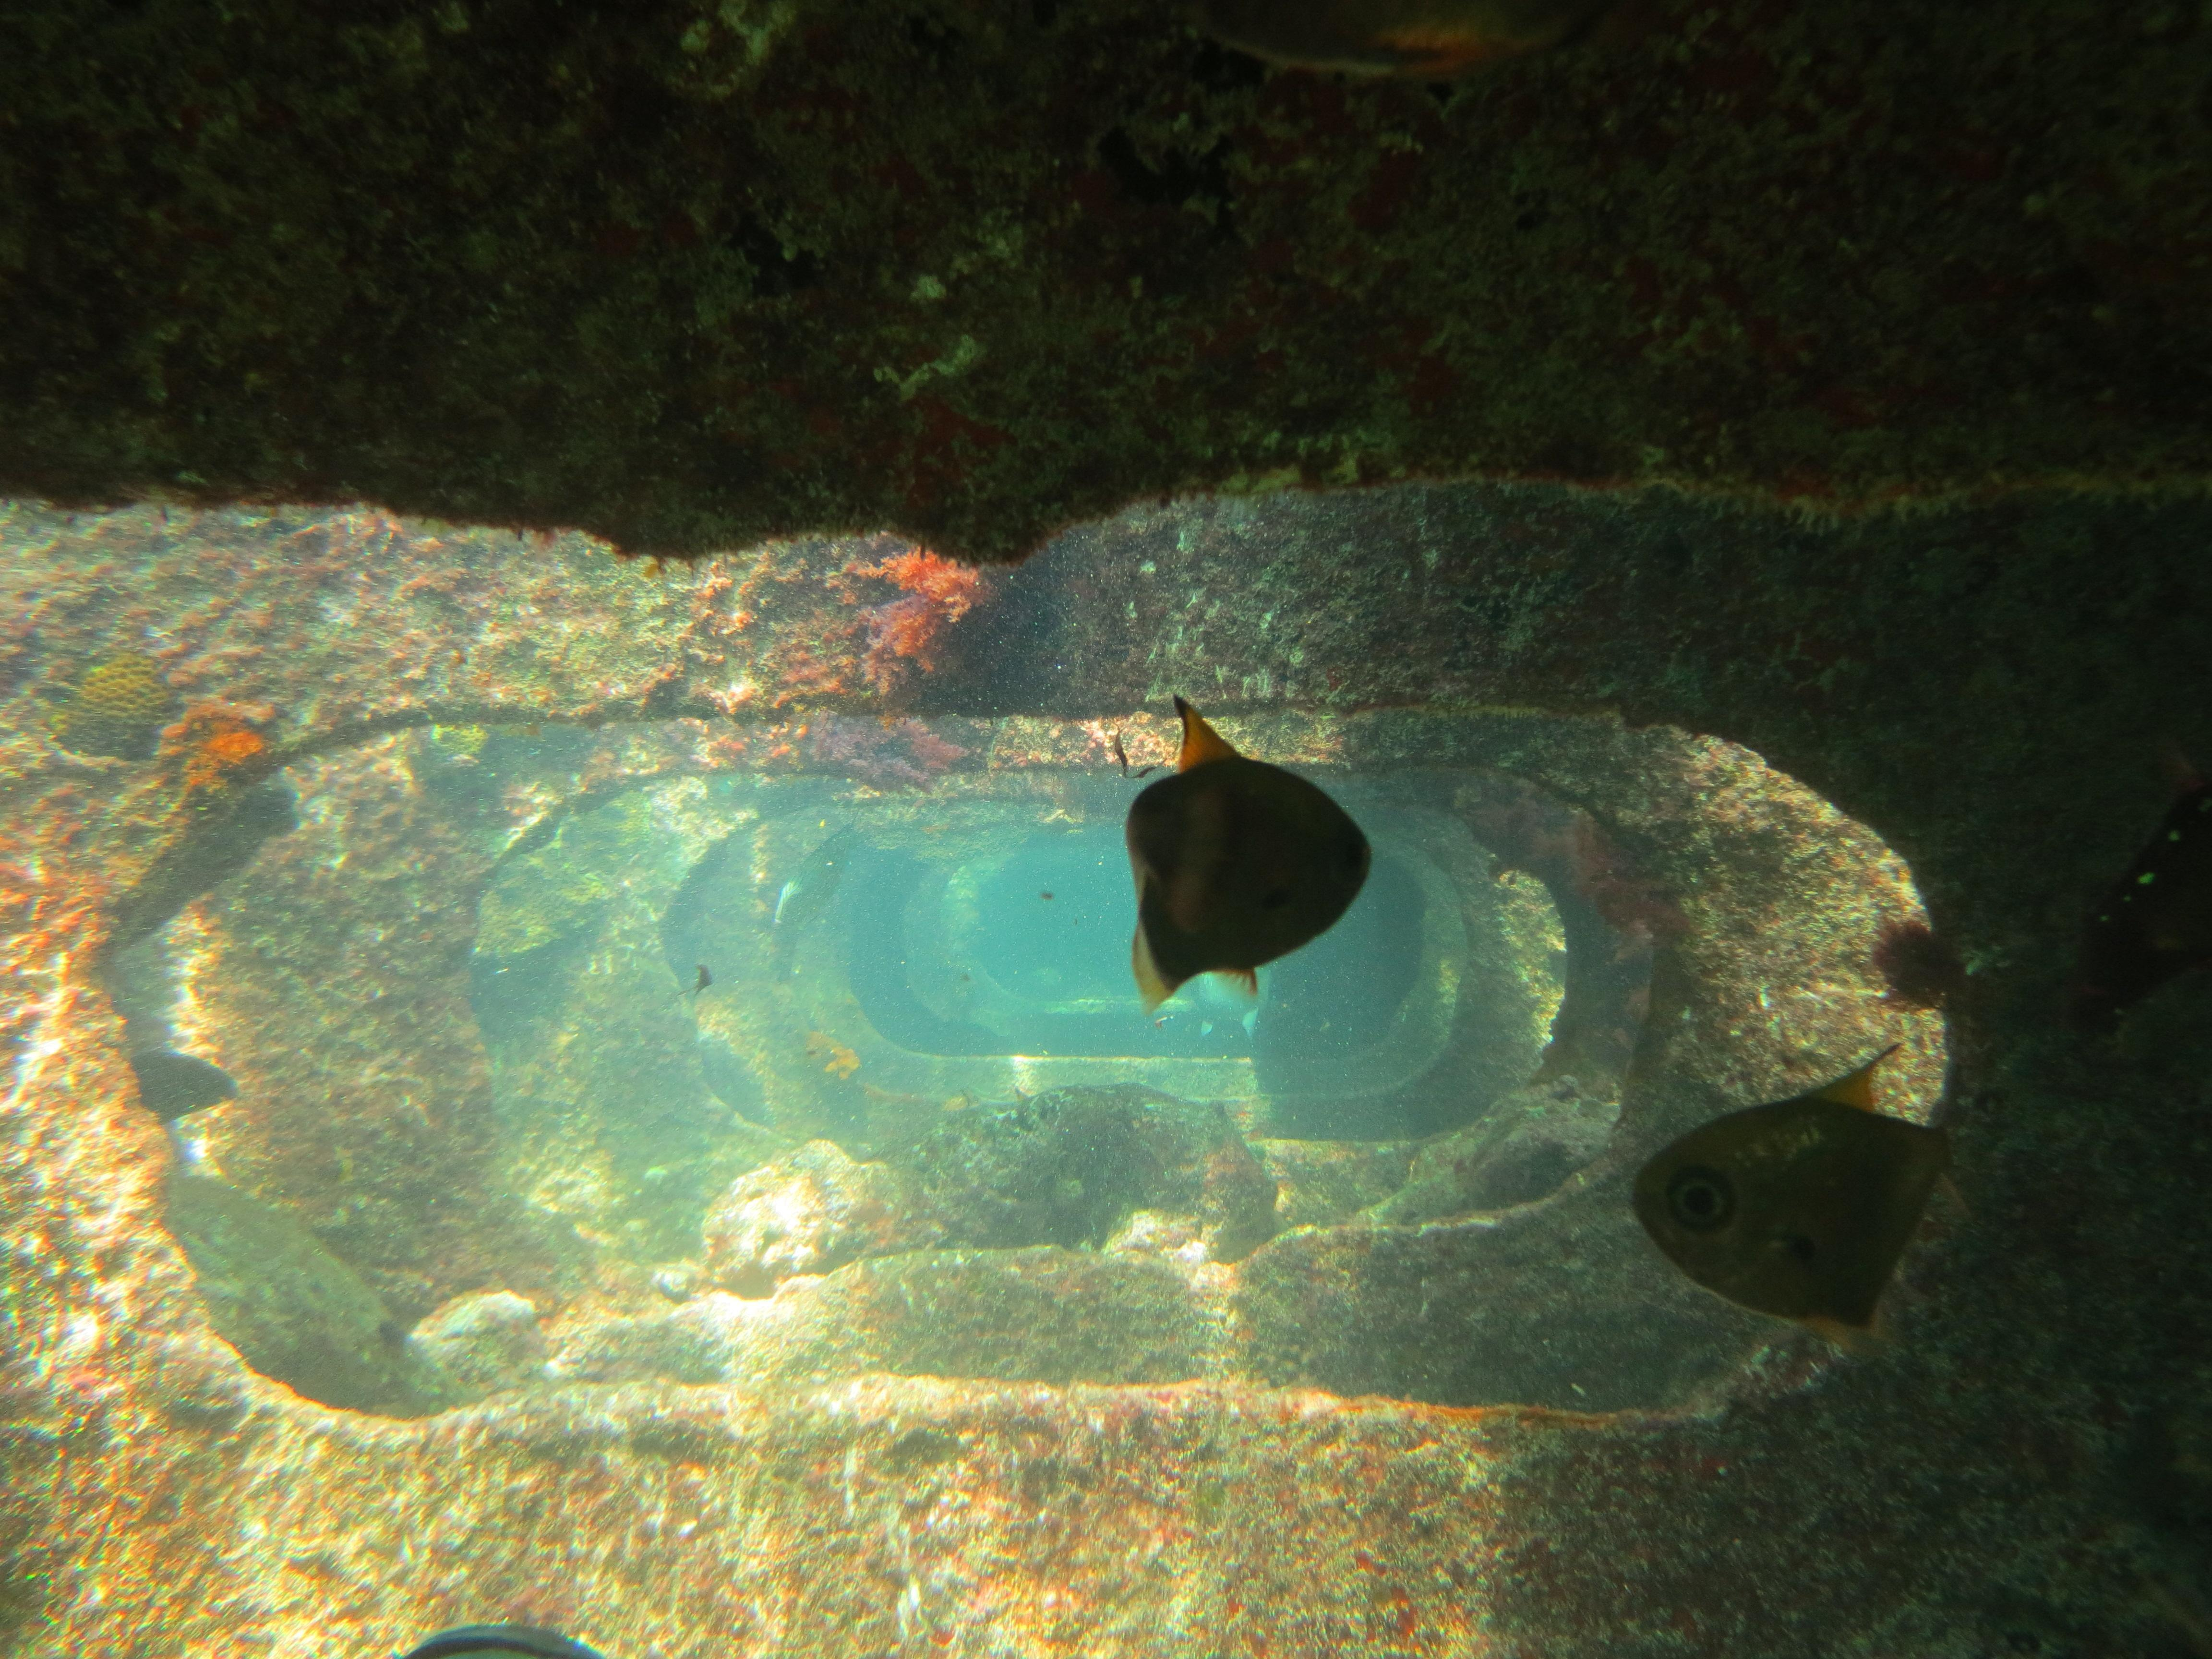Fish: (927, 653, 1475, 1056), (1526, 1047, 2008, 1398)
